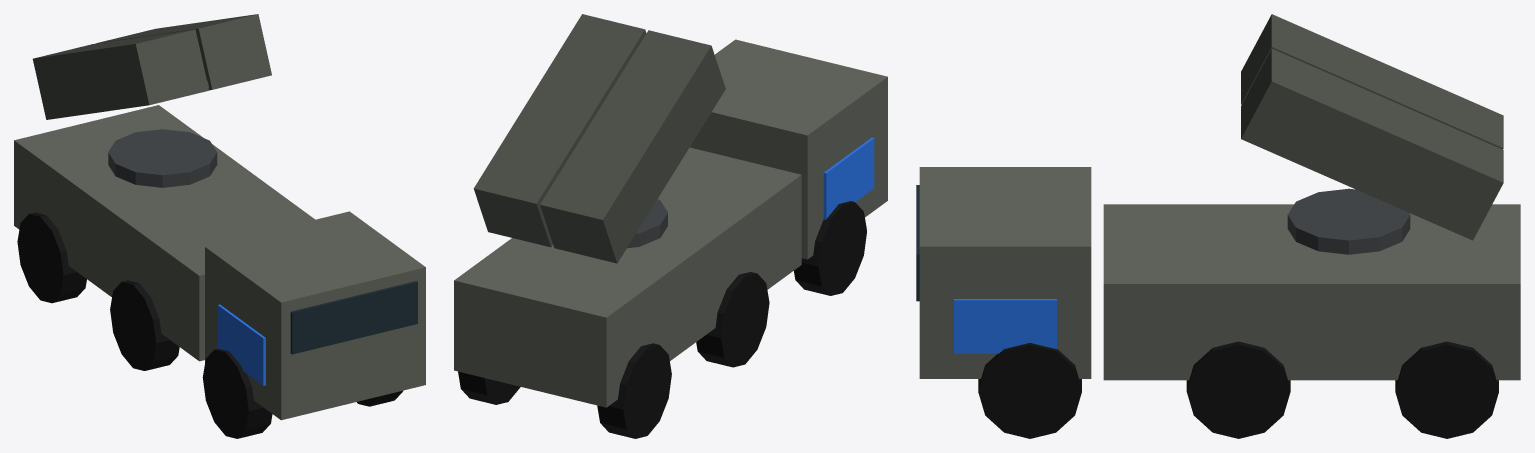
File: eu_shorad.glb
The picture shows the model from 3 angles, left to right: view 1: azimuth 30°, elevation 25°; view 2: azimuth 150°, elevation 25°; view 3: azimuth 270°, elevation 25°; orthographic projection. The views are drawn at different scales.
Visible parts, largest first — view 1: body, cab, pod_0, windshield, turret, pod_1, wheel_l2, wheel_l1, wheel_l0, team_door_l; view 2: body, pod_0, cab, pod_1, wheel_l2, wheel_l1, wheel_l0, team_door_l, wheel_r2, turret; view 3: body, cab, pod_1, pod_0, wheel_r1, wheel_r2, wheel_r0, turret, team_door_r.
Part boxes in pixels (x1,y1,x2,y2): body: (14, 105, 314, 361); cab: (205, 211, 425, 420); pod_0: (32, 29, 208, 119); windshield: (290, 281, 417, 354); turret: (108, 129, 217, 187); pod_1: (96, 14, 271, 90); wheel_l2: (17, 212, 86, 303); wheel_l1: (110, 280, 179, 370); wheel_l0: (202, 349, 272, 438); team_door_l: (217, 304, 265, 385); body: (454, 147, 801, 407); pod_0: (540, 30, 725, 263); cab: (690, 39, 887, 259); pod_1: (473, 14, 646, 247); wheel_l2: (597, 343, 671, 438); wheel_l1: (696, 272, 769, 367); wheel_l0: (794, 201, 866, 295); team_door_l: (823, 137, 874, 219); wheel_r2: (458, 371, 520, 404); turret: (627, 199, 667, 248); body: (1103, 204, 1520, 380); cab: (919, 167, 1091, 378); pod_1: (1241, 49, 1503, 240); pod_0: (1241, 14, 1503, 149); wheel_r1: (1186, 341, 1290, 438); wheel_r2: (1395, 341, 1498, 438); wheel_r0: (978, 343, 1081, 438); turret: (1287, 188, 1410, 254); team_door_r: (954, 299, 1056, 353).
Bounding box in the file's own units: 2.6 × 4.88 × 7.69.
